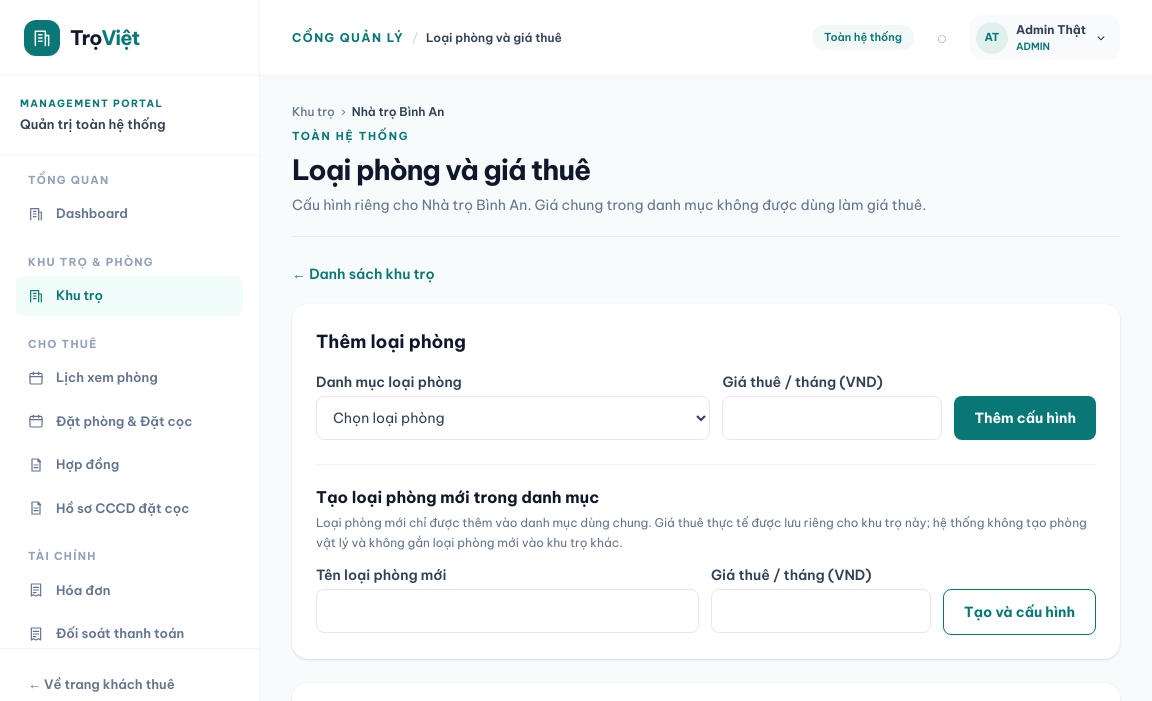
Test case: management property room types › creates a catalog type and configures it only for the current property
Step 1. Type "  Phòng   Deluxe  " into the field labelled "Tên loại phòng mới" → (508, 610), box [316,588,699,632]
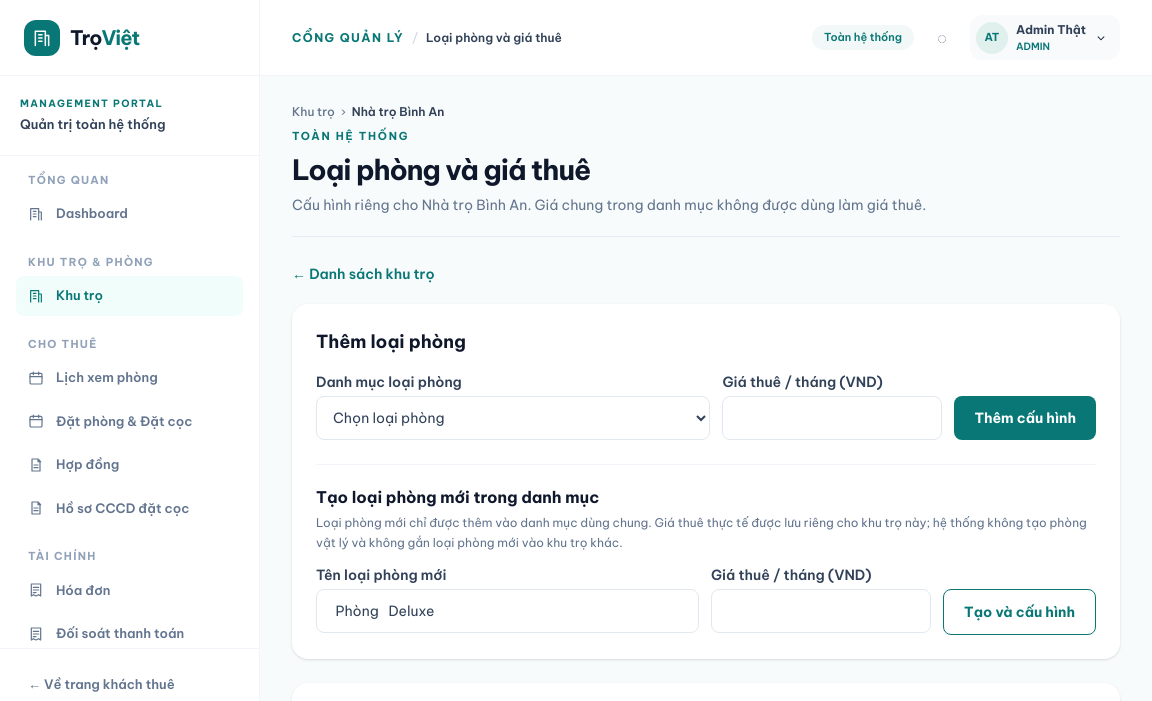
Step 2. Type "4500000" into the number field named "Giá thuê loại phòng mới" → (821, 610), box [711,588,931,632]
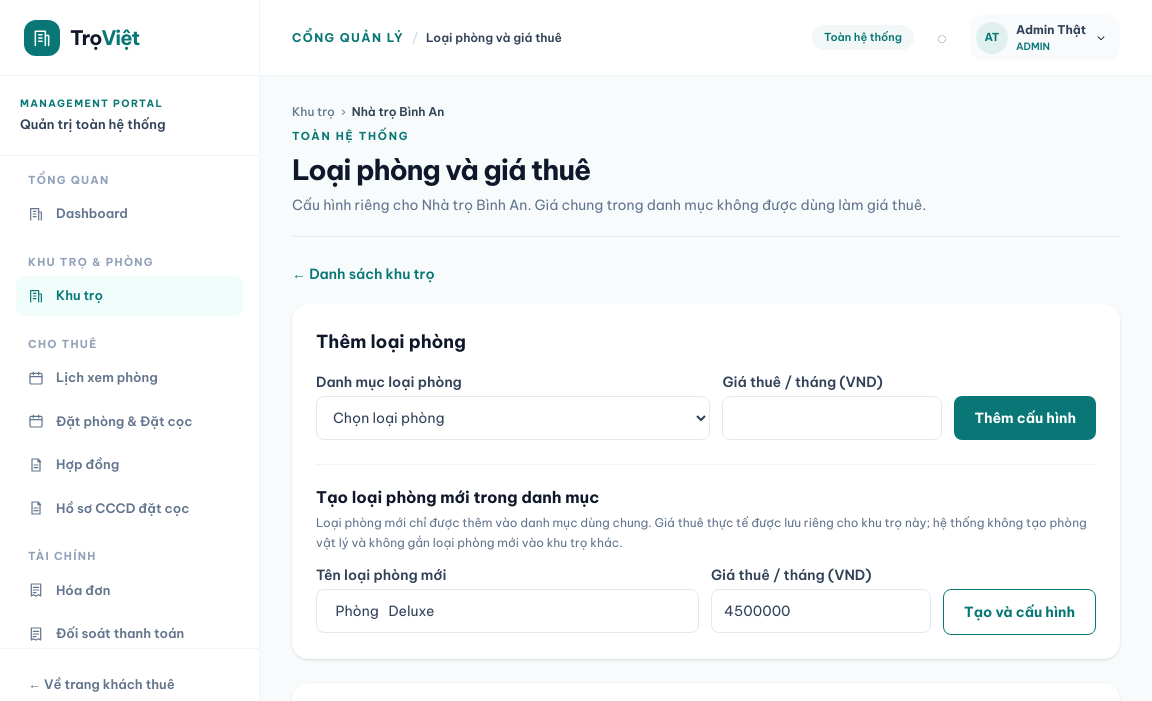
Step 3. Click the button "Tạo và cấu hình" → (1020, 612), box [943,588,1096,634]
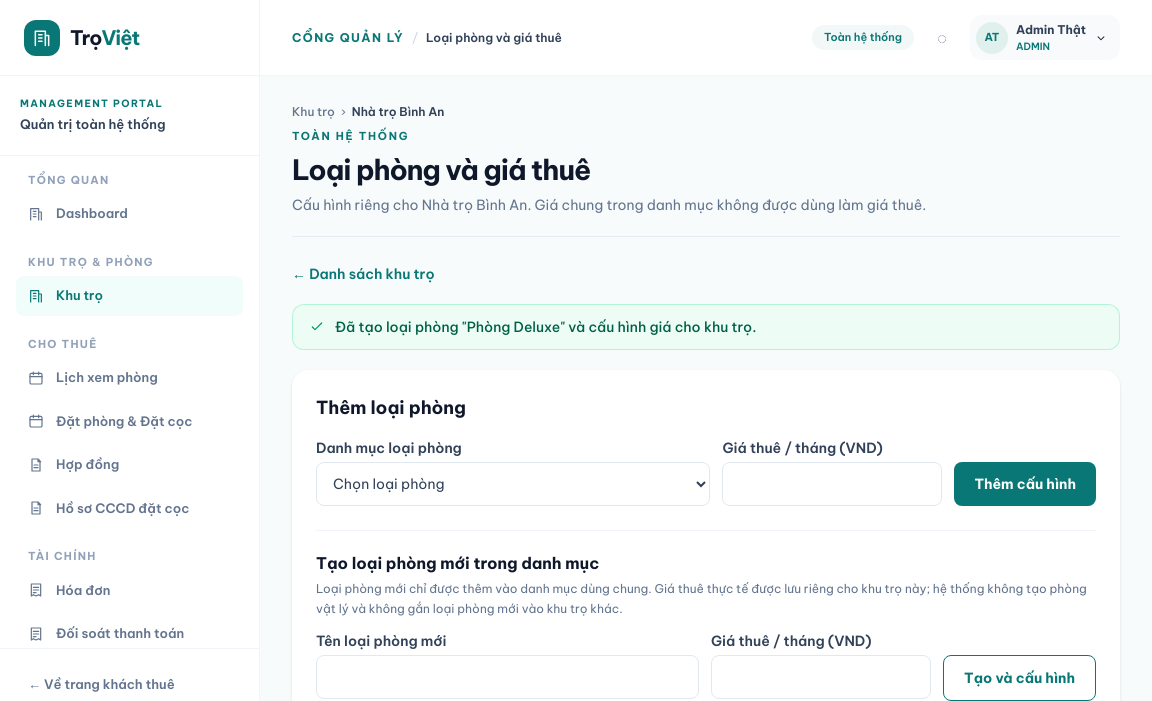
Check: the text "Đã tạo loại phòng \"Phòng Deluxe\" và cấu hình giá cho khu trọ" is shown, box [335,318,756,336]
